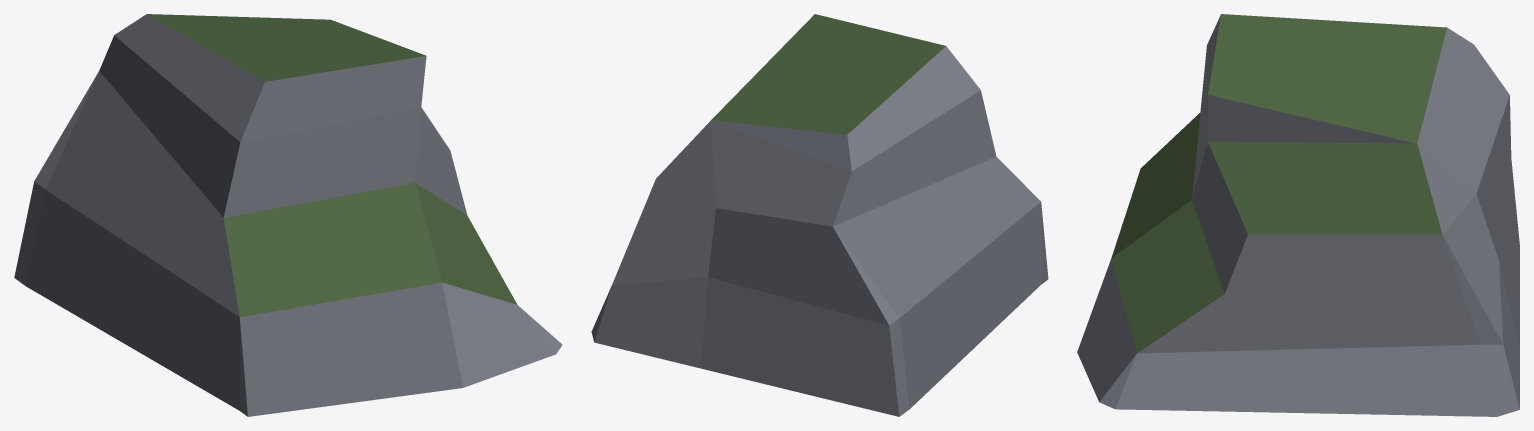
3 views of the same model, side by side, from view 1: azimuth 30°, elevation 25°; view 2: azimuth 150°, elevation 25°; view 3: azimuth 270°, elevation 25° (orthographic). The views are drawn at different scales.
Visible parts, largest first — view 1: Rock_Moss_3; view 2: Rock_Moss_3; view 3: Rock_Moss_3.
Part boxes in pixels (left/top/right/bottom): Rock_Moss_3: left=14, top=14, right=562, bottom=416; Rock_Moss_3: left=591, top=14, right=1048, bottom=416; Rock_Moss_3: left=1077, top=14, right=1519, bottom=416.
Bounding box in the file's own units: 0.7384 × 0.5567 × 0.8026.
